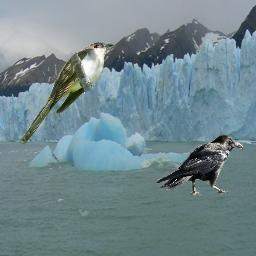Crow: (155, 134, 243, 198)
Cuckoo: (19, 41, 114, 147)
